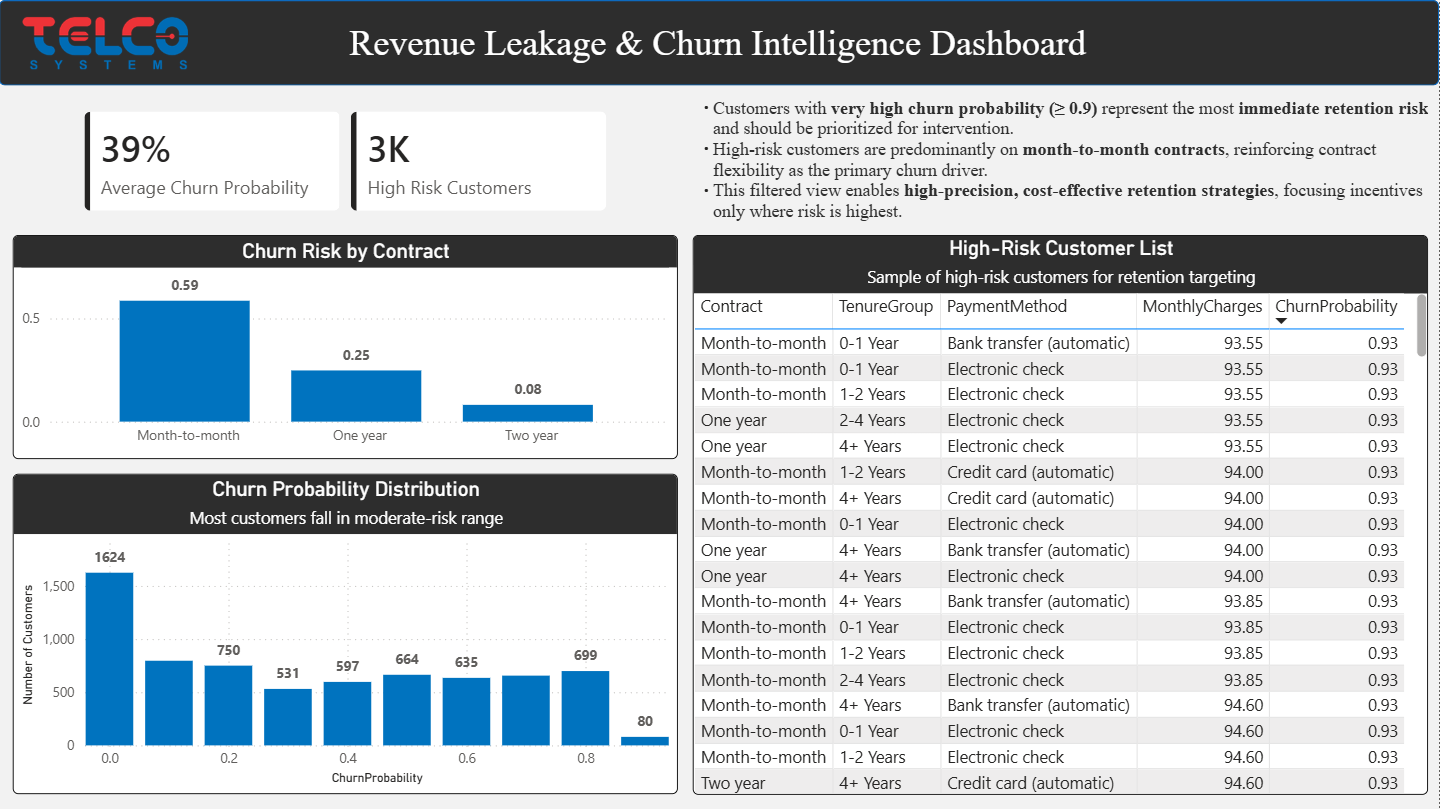

The dashboard page shown, as its layout file describes it:
{"tool":"powerbi","page":{"name":"ML Insights","canvas":[1280,720],"ordinal":3},"visuals":[{"type":"shape","box":[0,0,1280,76],"z":0},{"type":"image","box":[0,14.3,188.6,56.1],"z":1000},{"type":"cardVisual","fields":{"Data":["Avg(telco_churn_with_predictions.ChurnProbability)","revenue_leakage telco_churn.High Risk Customers"]},"box":[65,88.8,485,108.8],"z":2000},{"type":"tableEx","title":"High-Risk Customer List","fields":{"Values":["revenue_leakage telco_churn.Contract","revenue_leakage telco_churn.TenureGroup","revenue_leakage telco_churn.PaymentMethod","revenue_leakage telco_churn.MonthlyCharges","telco_churn_with_predictions.ChurnProbability"]},"box":[616.2,208.8,653.8,497.5],"z":3000},{"type":"clusteredColumnChart","title":"Churn Risk by Contract","fields":{"Y":["Avg(telco_churn_with_predictions.ChurnProbability)"],"Category":["telco_churn_with_predictions.Contract"]},"box":[12.2,208.9,591.1,198.9],"z":4000},{"type":"clusteredColumnChart","title":"Churn Probability Distribution","fields":{"Category":["telco_churn_with_predictions.ChurnProbability (bins)"],"Y":["CountNonNull(telco_churn_with_predictions.tenure)"]},"box":[12.2,421.1,591.1,284.4],"z":6000},{"type":"textbox","box":[227.1,14.3,824.3,51.4],"z":7000},{"type":"textbox","box":[616.2,83.8,653.8,125],"z":8003}]}

Visuals, with their boxes in screenshot pixels (x1, y1, x2, y2), scaled from the page's 1280x720 canvas onto the 1440x809 screenshot:
shape: [0,0,1439,85]
image: [0,16,212,79]
cardVisual - Avg(telco_churn_with_predictions.ChurnProbability) x revenue_leakage telco_churn.High Risk Customers: [73,100,619,222]
"High-Risk Customer List" tableEx: [693,235,1429,794]
"Churn Risk by Contract" clusteredColumnChart: [14,235,679,458]
"Churn Probability Distribution" clusteredColumnChart: [14,473,679,793]
textbox: [255,16,1183,74]
textbox: [693,94,1429,235]
